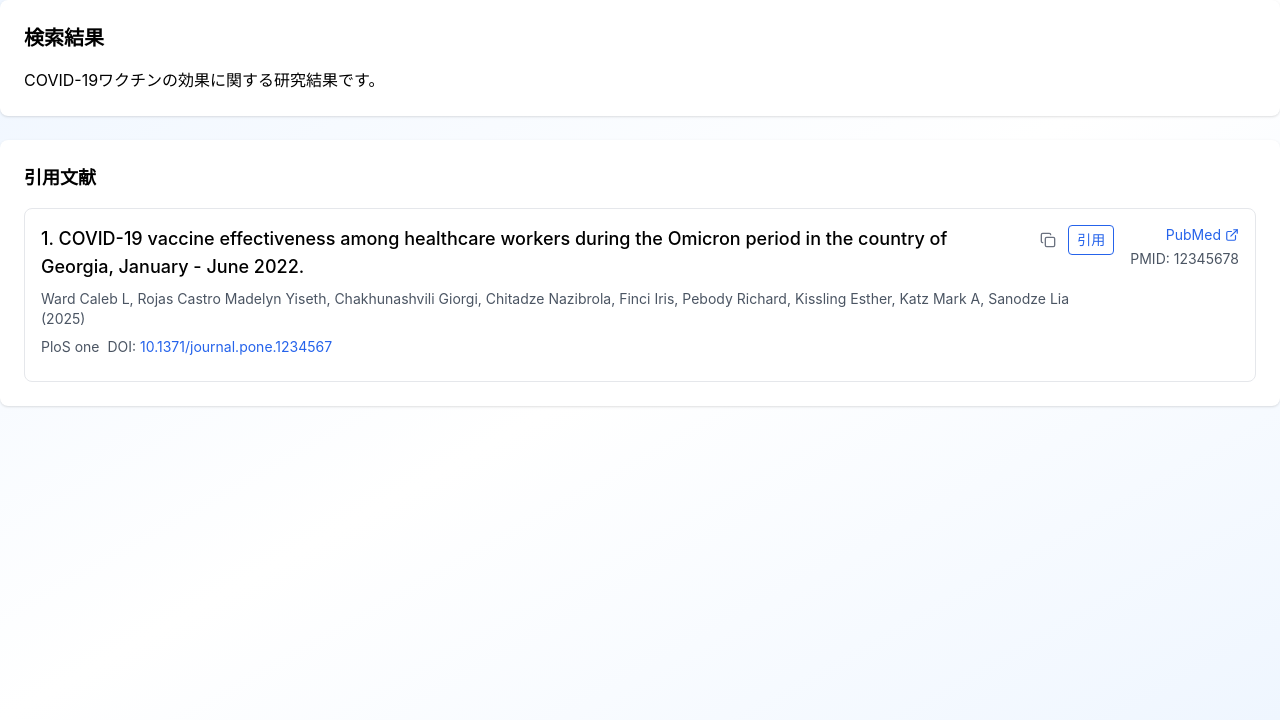
Test: ResultDisplay › 引用機能が正しく動作する
// 最初の論文を引用
Click the button "引用" at (1091, 240), box [1068, 225, 1114, 255]
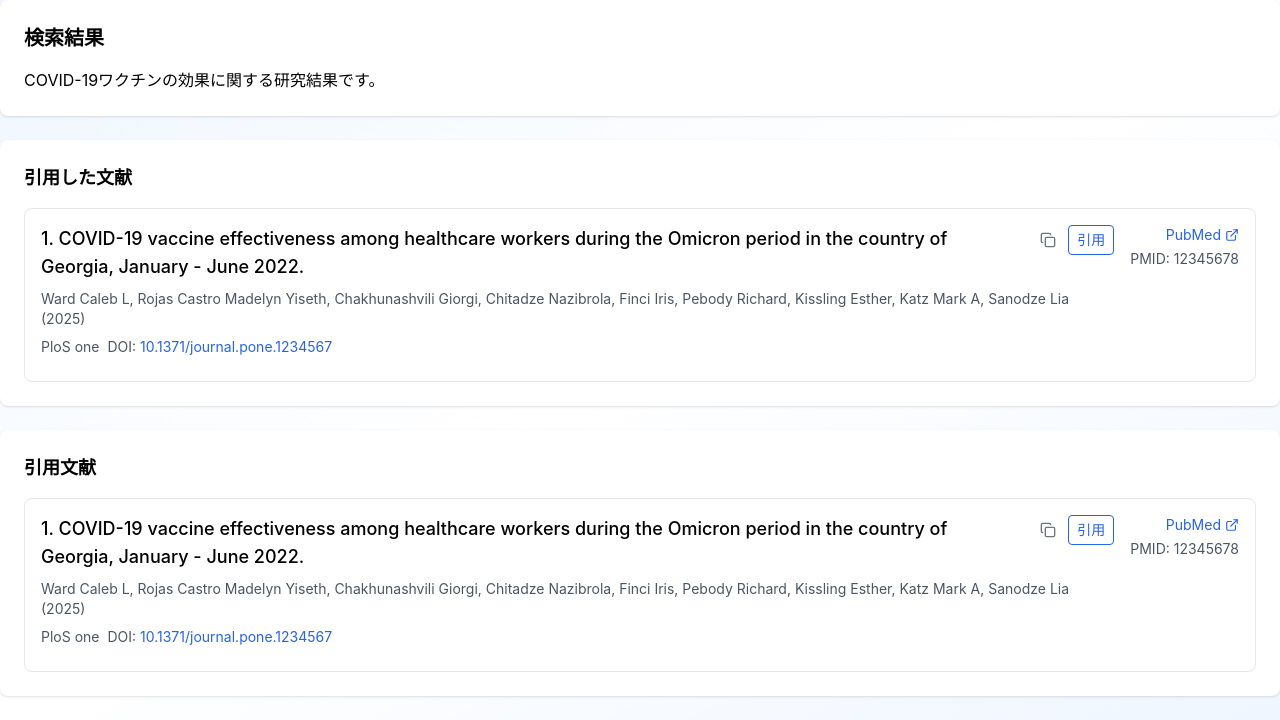
expect the number of headings "COVID-19 vaccine effectiveness" is 1: met, box [41, 225, 1020, 281]
Click the 2nd button "引用" at (1091, 530), box [1068, 515, 1114, 545]
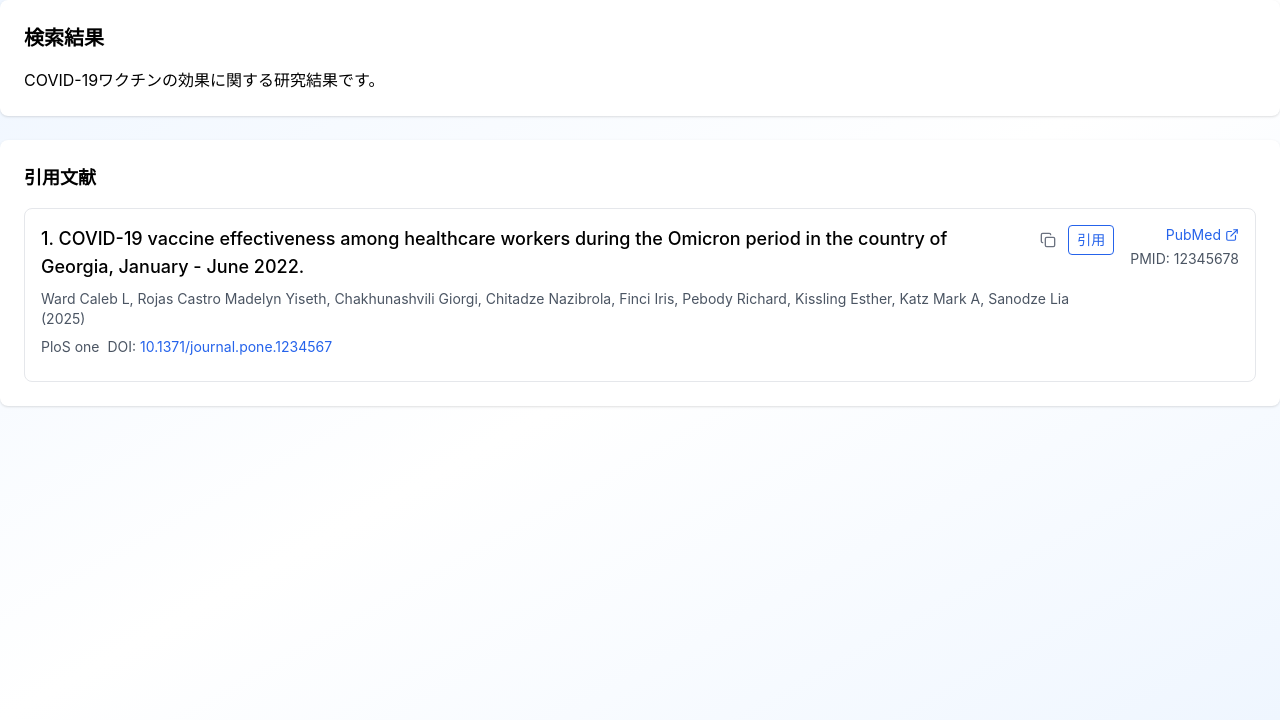
expect the heading "引用した文献" is gone: met
